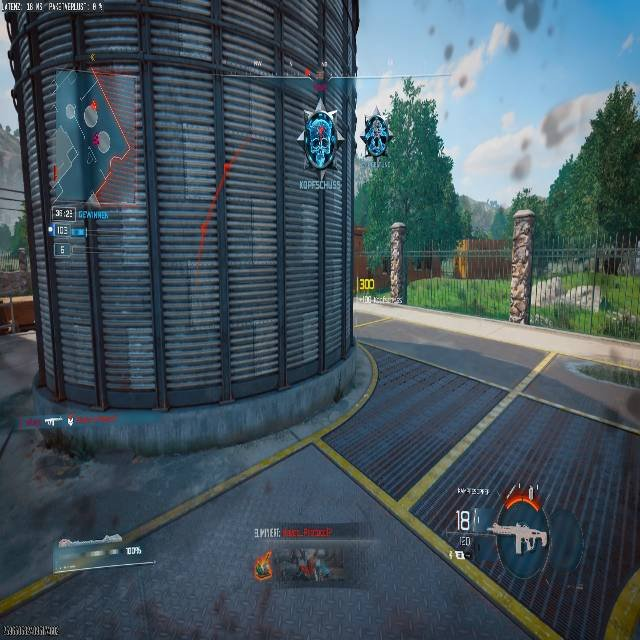player: (362, 113, 391, 163)
